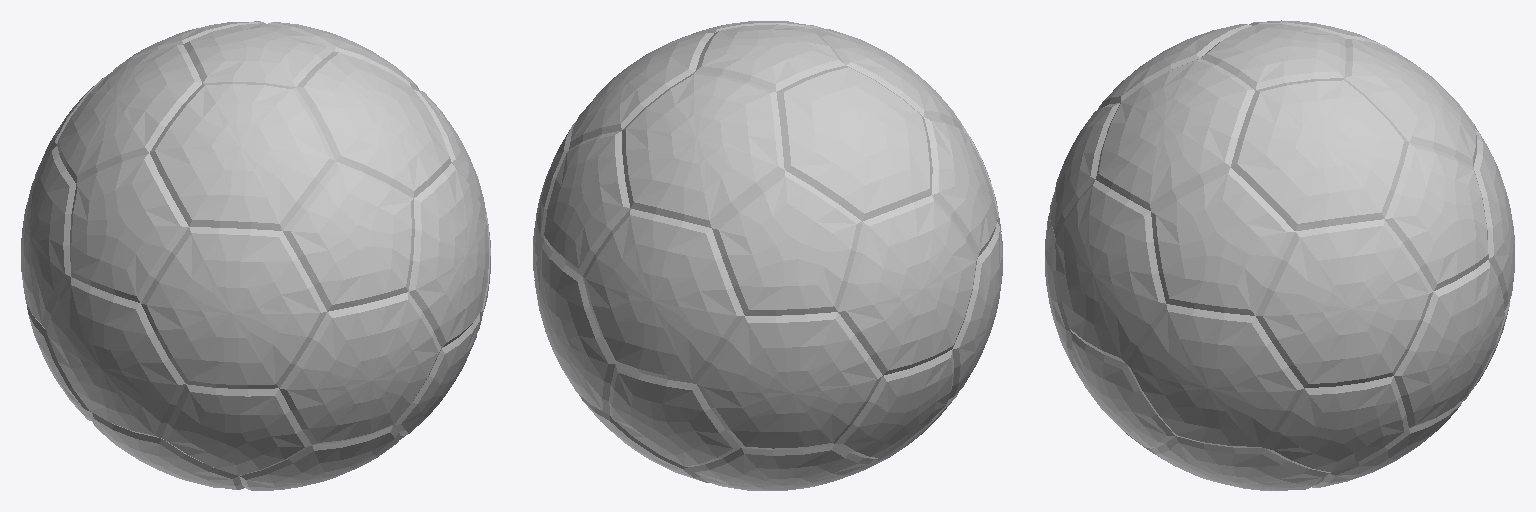
Rendered from soccerball.obj.
3 views of the same model, side by side, from view 1: azimuth 30°, elevation 25°; view 2: azimuth 150°, elevation 25°; view 3: azimuth 270°, elevation 25° (orthographic).
Parts seen in each view (by area): view 1: white, black; view 2: white, black; view 3: white, black.
Part boxes in pixels (bbox=[...]): white: bbox=[21, 21, 490, 490]; black: bbox=[26, 23, 485, 475]; white: bbox=[533, 21, 1002, 490]; black: bbox=[544, 24, 997, 466]; white: bbox=[1045, 20, 1514, 490]; black: bbox=[1050, 24, 1509, 472].
Bounding box in the file's own units: 9.36 × 9.39 × 9.39.